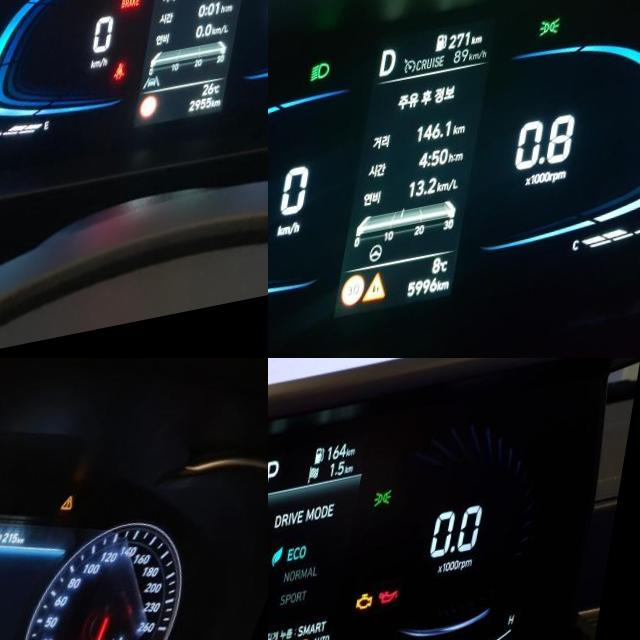Central Warning lamp: (68, 510, 84, 528)
Low beam: (316, 69, 336, 90)
SideLamp: (544, 35, 567, 56), (381, 504, 401, 524)
